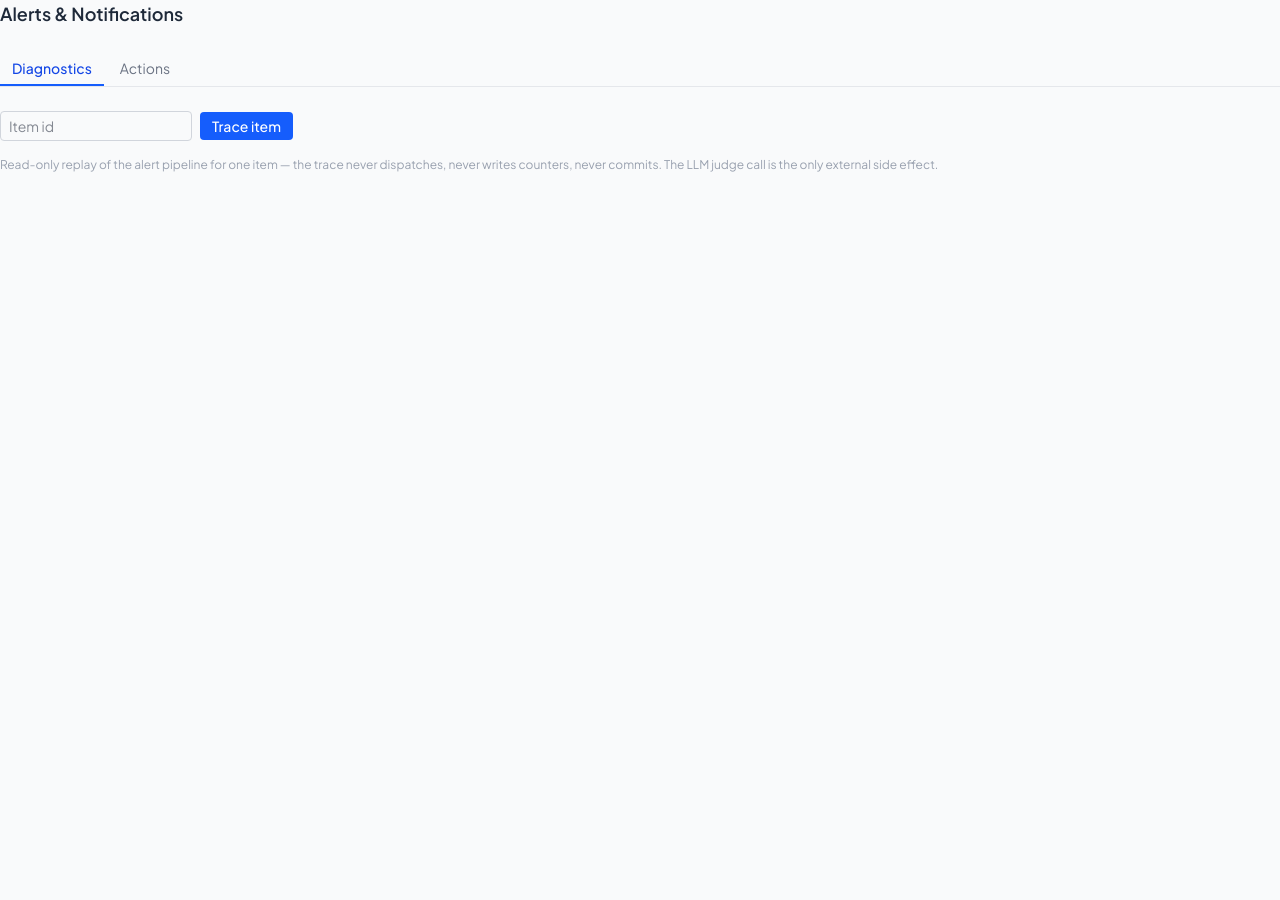
Scenario: Actions sub-view › reprocess calls the verb through the confirm dialog
The image size is (1280, 900).
Click the button "Actions" at (145, 69), box [108,52,182,86]
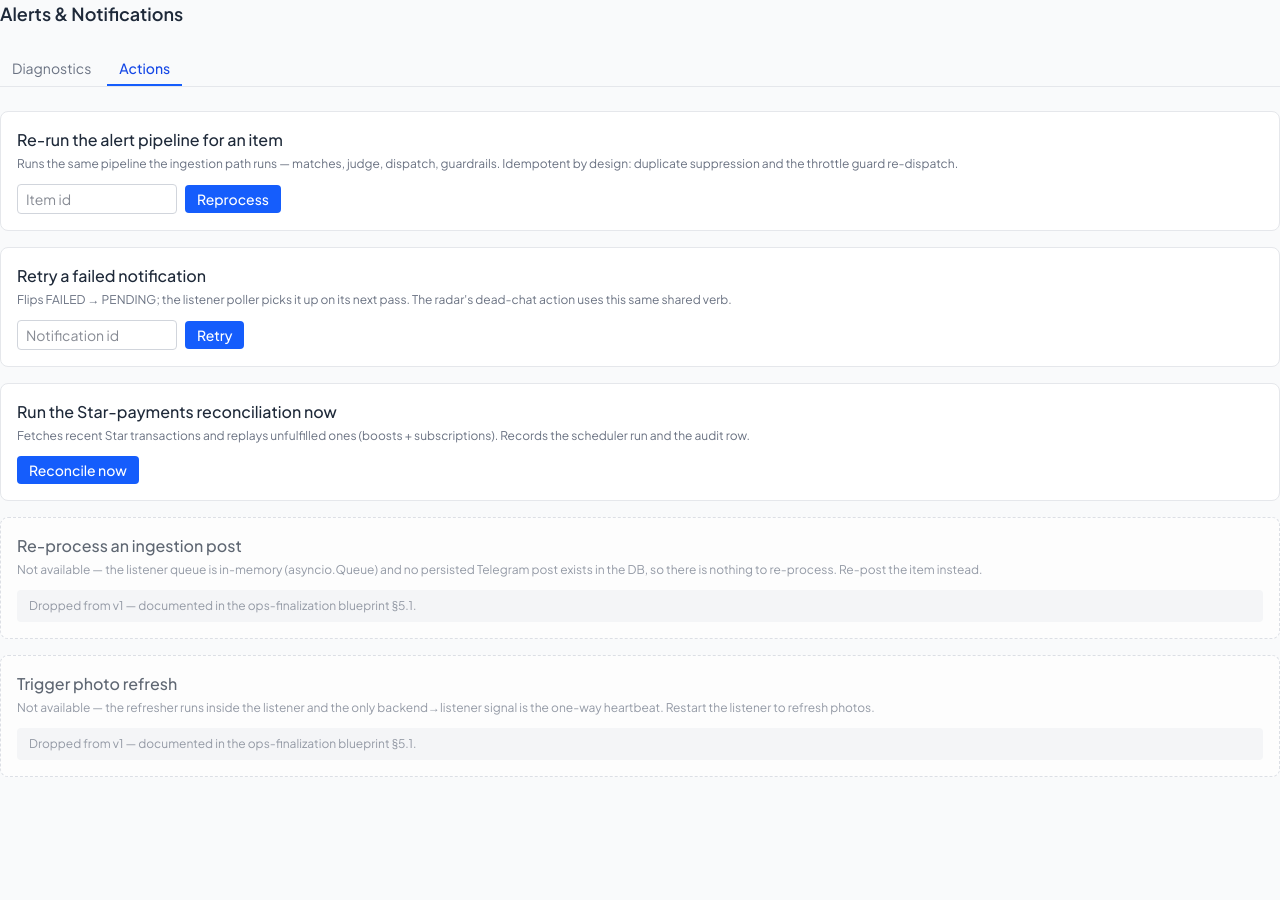
Type "9" into the field with placeholder "Item id" at (97, 199), box [17,184,177,214]
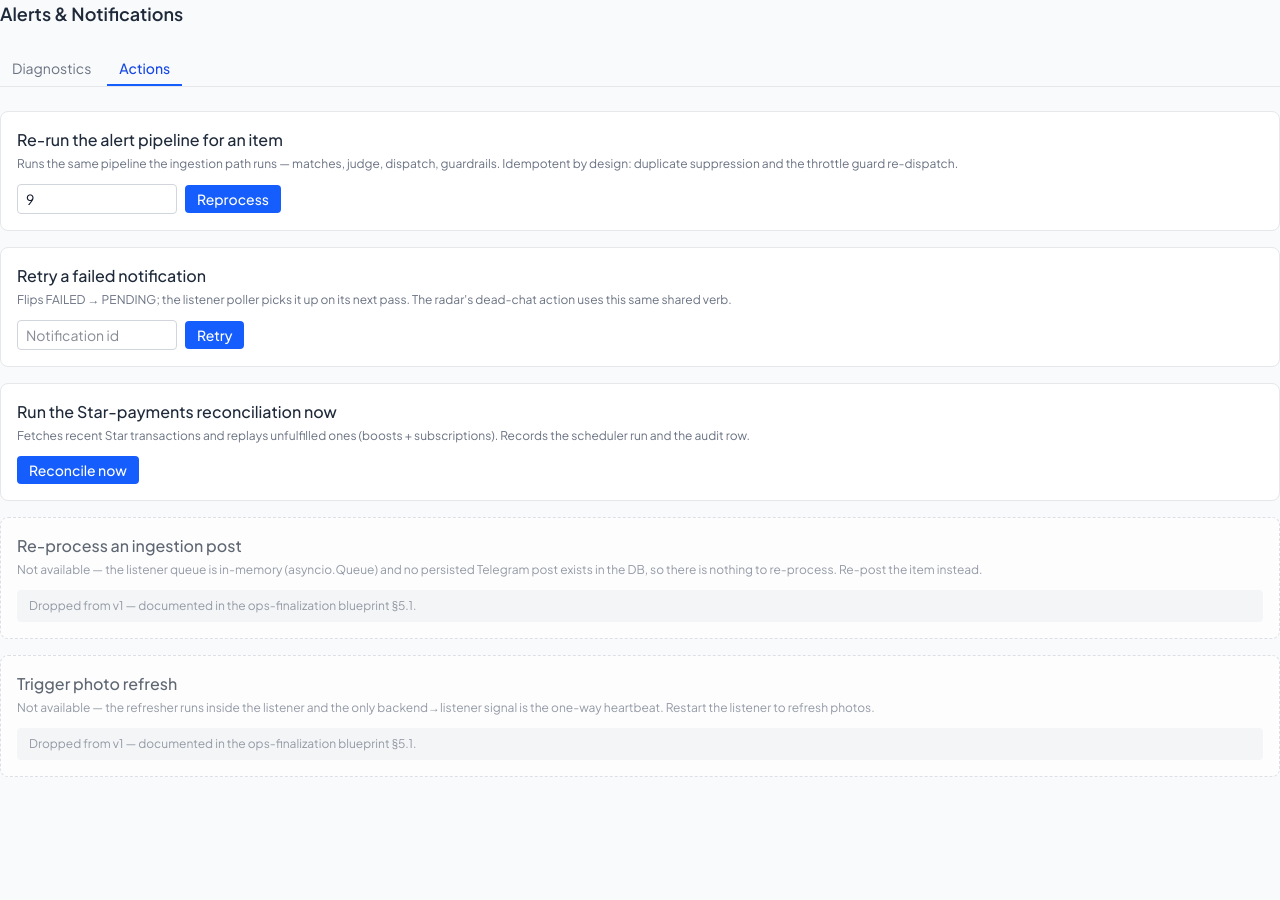
Click the button "Reprocess" at (233, 199), box [185,185,281,213]
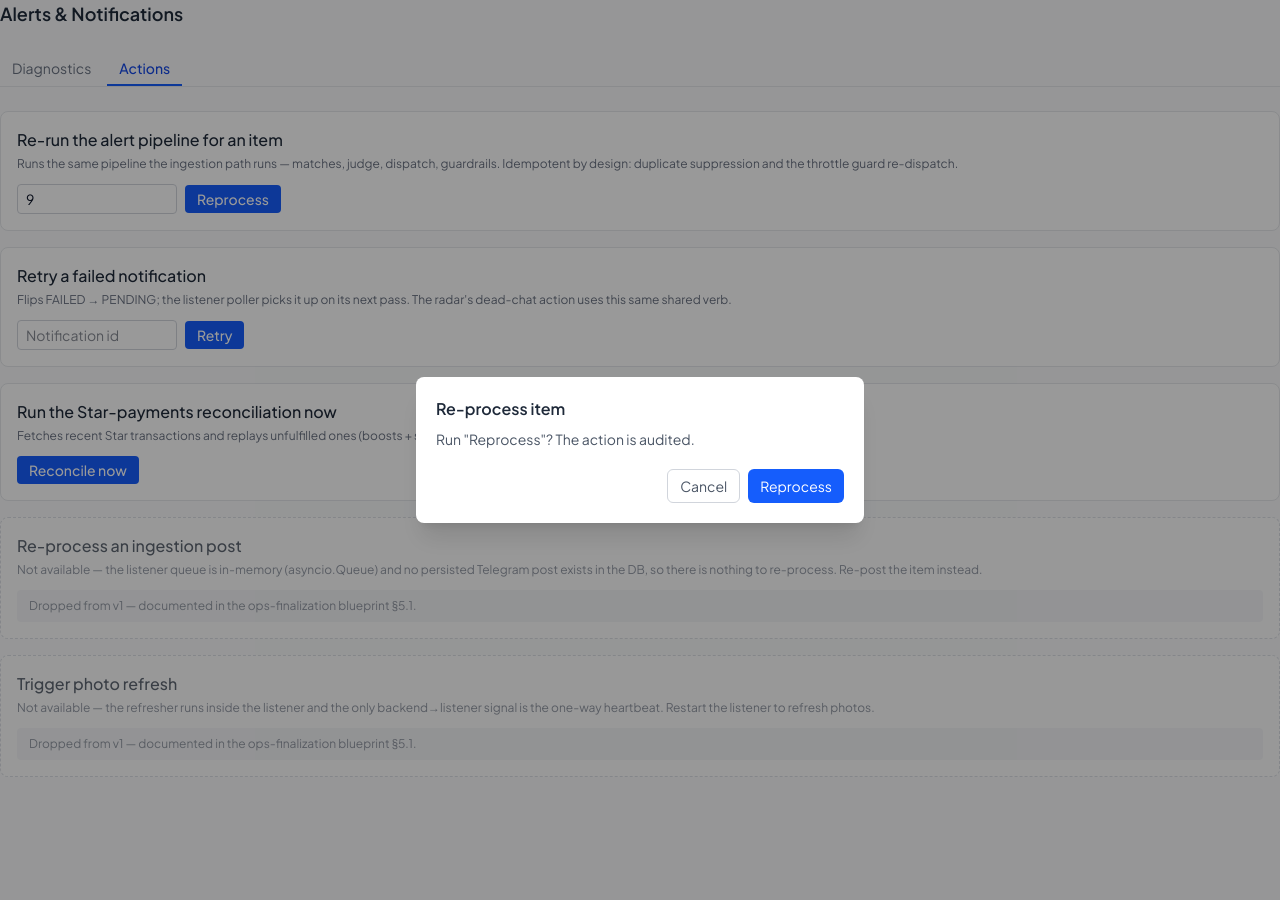
Click the button "Reprocess" at (796, 486), box [748,469,844,503]
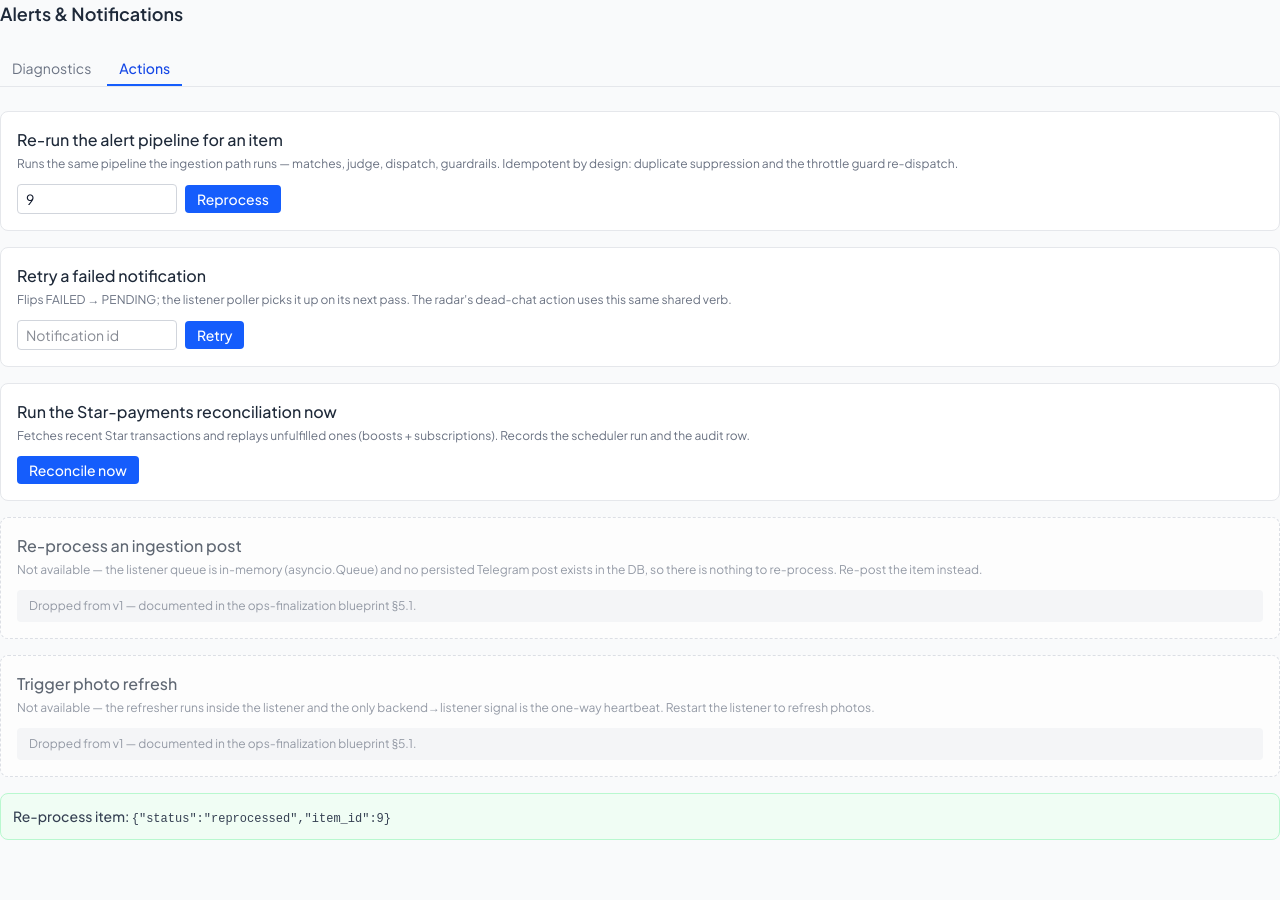
expect the element with test id "action-result" shows "reprocessed": met, box [132,812,391,826]
